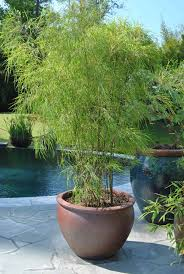bamboo: (8, 10, 161, 145), (58, 113, 124, 201)
